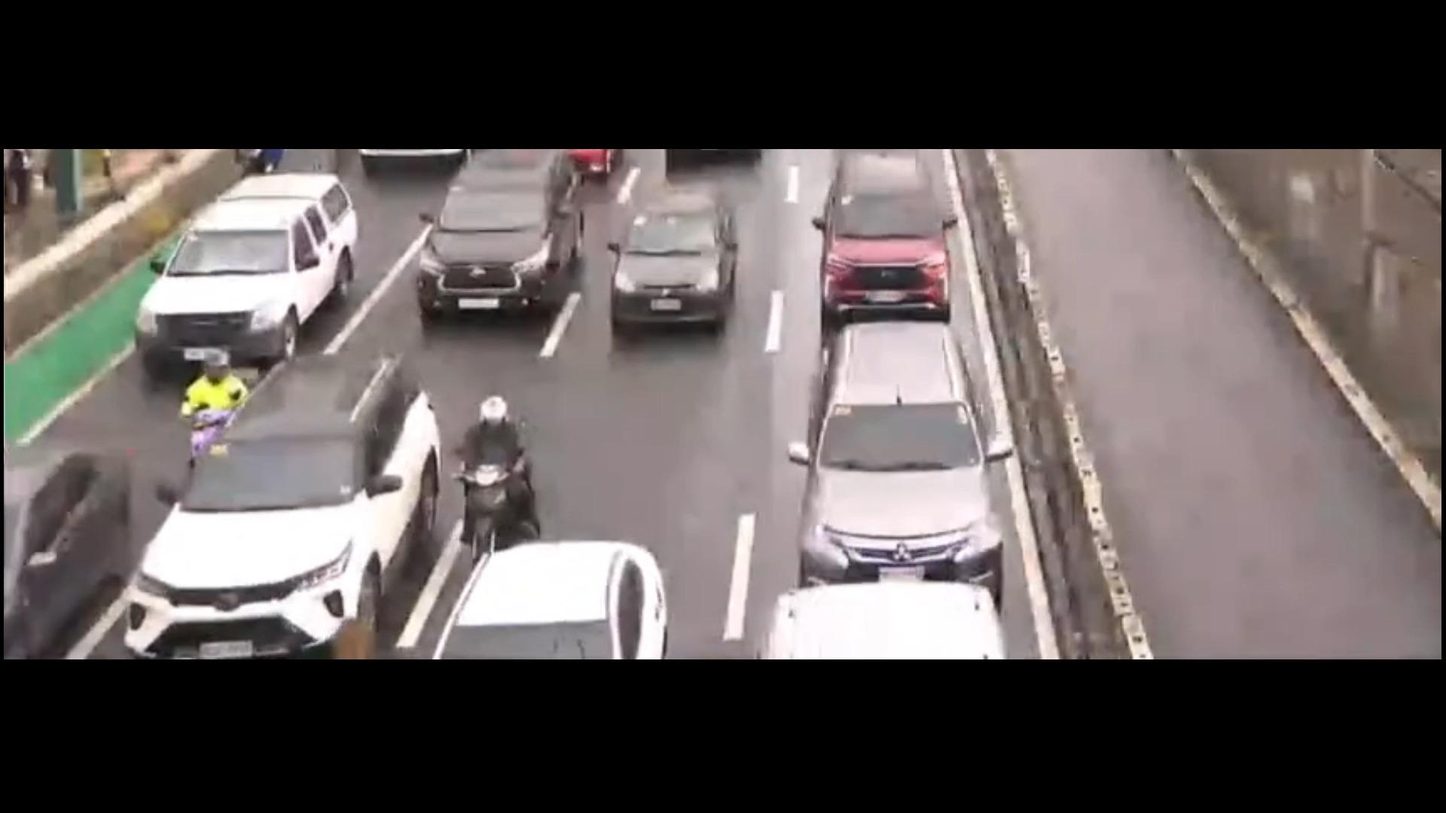Motorcycle: (453, 396, 569, 547), (170, 339, 277, 465)
SUV: (113, 343, 450, 664), (777, 317, 1027, 580), (120, 177, 384, 366), (798, 155, 991, 336), (403, 157, 592, 322)
Sedan: (433, 529, 682, 657), (0, 439, 130, 658), (614, 175, 786, 336)
